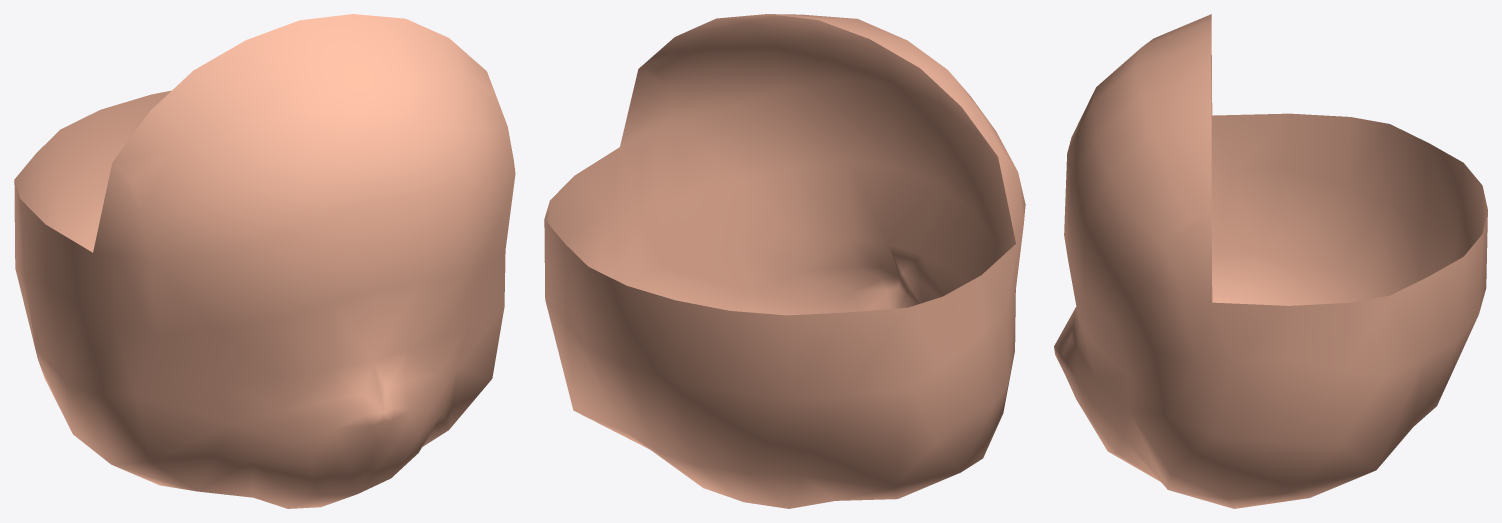
3 views of the same model, side by side, from view 1: azimuth 30°, elevation 25°; view 2: azimuth 150°, elevation 25°; view 3: azimuth 270°, elevation 25° (orthographic). The views are drawn at different scales.
Parts seen in each view (by area): view 1: AF_M_Face_11; view 2: AF_M_Face_11; view 3: AF_M_Face_11.
Boxes of the visible parts, bbox=[...] form: AF_M_Face_11: bbox=[14, 14, 515, 508]; AF_M_Face_11: bbox=[544, 14, 1025, 508]; AF_M_Face_11: bbox=[1054, 14, 1487, 508].
Size of the model in its own units: 700 by 737 by 661.
Materials: 1 (1 with a texture image).
